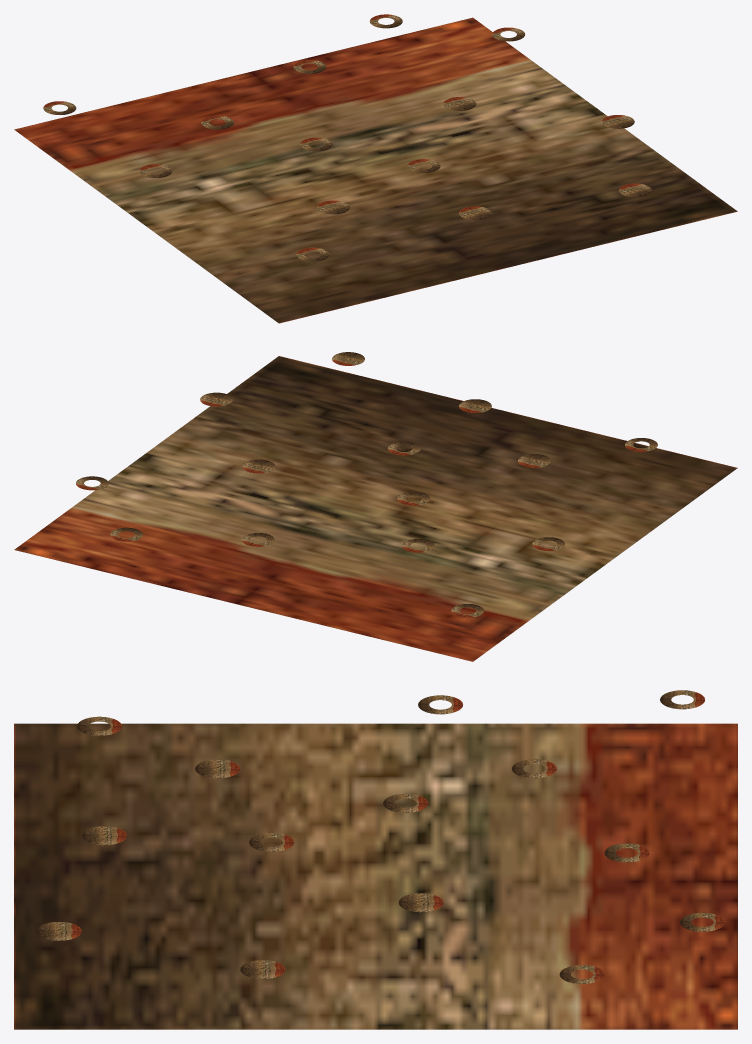
File: Lndmine1.glb
The picture shows the model from 3 angles, top to bottom: view 1: azimuth 30°, elevation 25°; view 2: azimuth 150°, elevation 25°; view 3: azimuth 270°, elevation 25°; orthographic projection. The views are drawn at different scales.
Visible parts, largest first — view 1: _Lndmine1; view 2: _Lndmine1; view 3: _Lndmine1.
Part boxes in pixels (x1=…): _Lndmine1: x1=14, y1=14, x2=737, y2=323; _Lndmine1: x1=14, y1=352, x2=737, y2=661; _Lndmine1: x1=14, y1=690, x2=737, y2=1029.
Bounding box in the file's own units: 16 × 1 × 16.
Materials: 1 (1 with a texture image).
